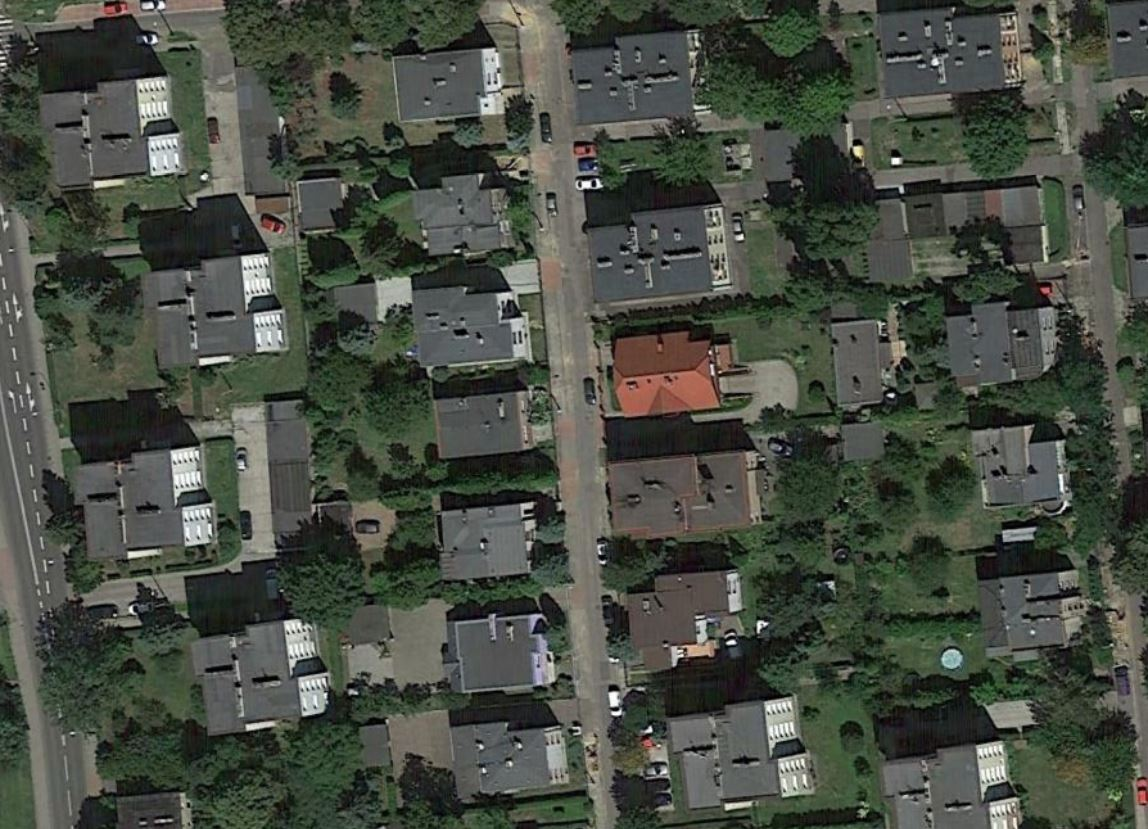block of flats: (659, 686, 818, 818), (140, 244, 294, 374), (180, 610, 334, 740), (66, 439, 220, 569), (35, 70, 189, 200), (581, 196, 739, 314), (562, 24, 723, 135), (875, 1, 1027, 104), (875, 737, 1025, 829)
family house: (601, 439, 769, 548), (630, 558, 752, 667), (445, 711, 582, 807), (937, 299, 1072, 396), (976, 550, 1093, 661), (411, 275, 534, 379), (963, 416, 1081, 517), (407, 164, 522, 261), (430, 498, 548, 587), (449, 604, 556, 697), (391, 42, 505, 129), (430, 381, 543, 466)
garage: (858, 181, 1060, 286), (260, 392, 322, 555), (822, 315, 898, 410), (328, 269, 383, 342), (293, 171, 347, 236)
